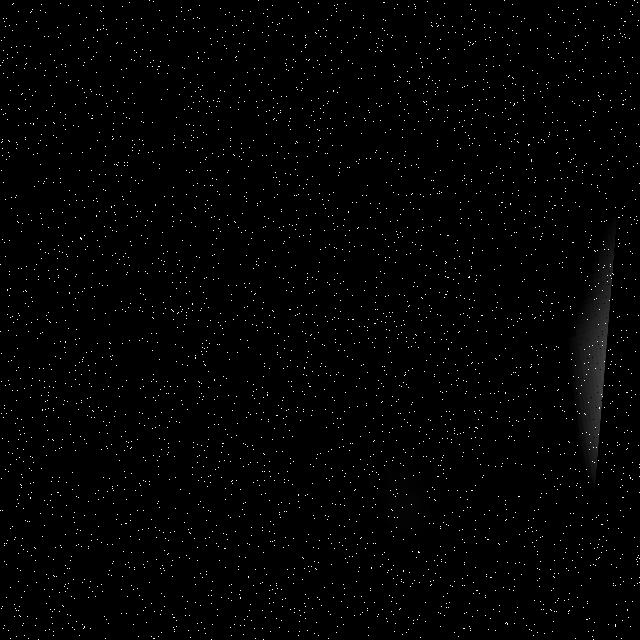person: (519, 151, 628, 528)
